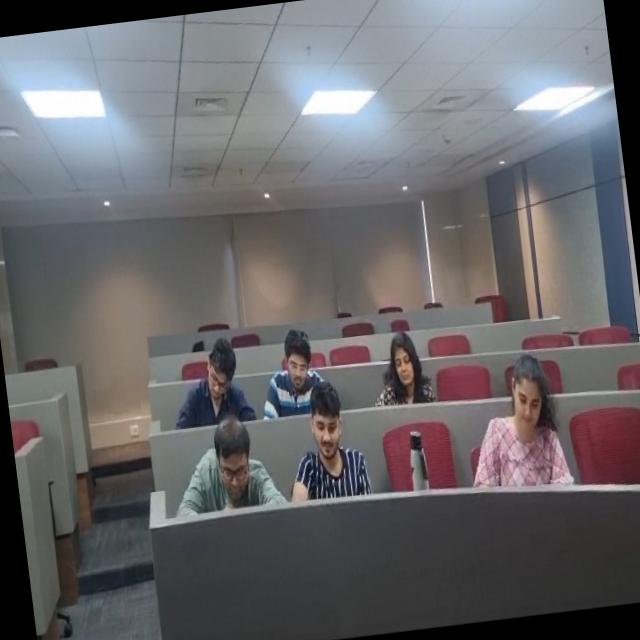cheating: (165, 408, 314, 530), (280, 372, 384, 505)
non-cheating: (470, 331, 576, 494), (162, 312, 258, 432), (348, 308, 447, 412), (266, 324, 334, 402)
